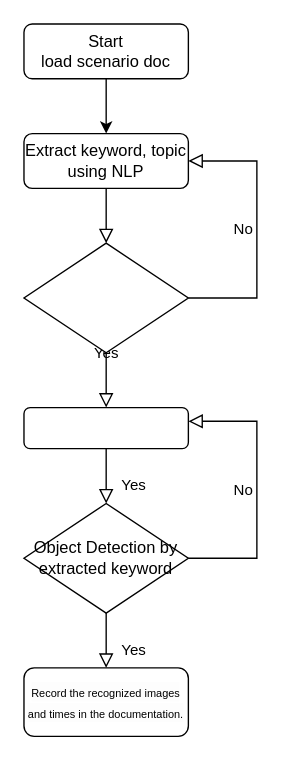
The diagram is 295 pixels wide and 760 high, and some of its shapes have lost their labels. Each missing label, with the box of its shape:
Extracted keyowrd & topic?: (23, 242, 188, 353)
load movie clip: (23, 406, 188, 449)
